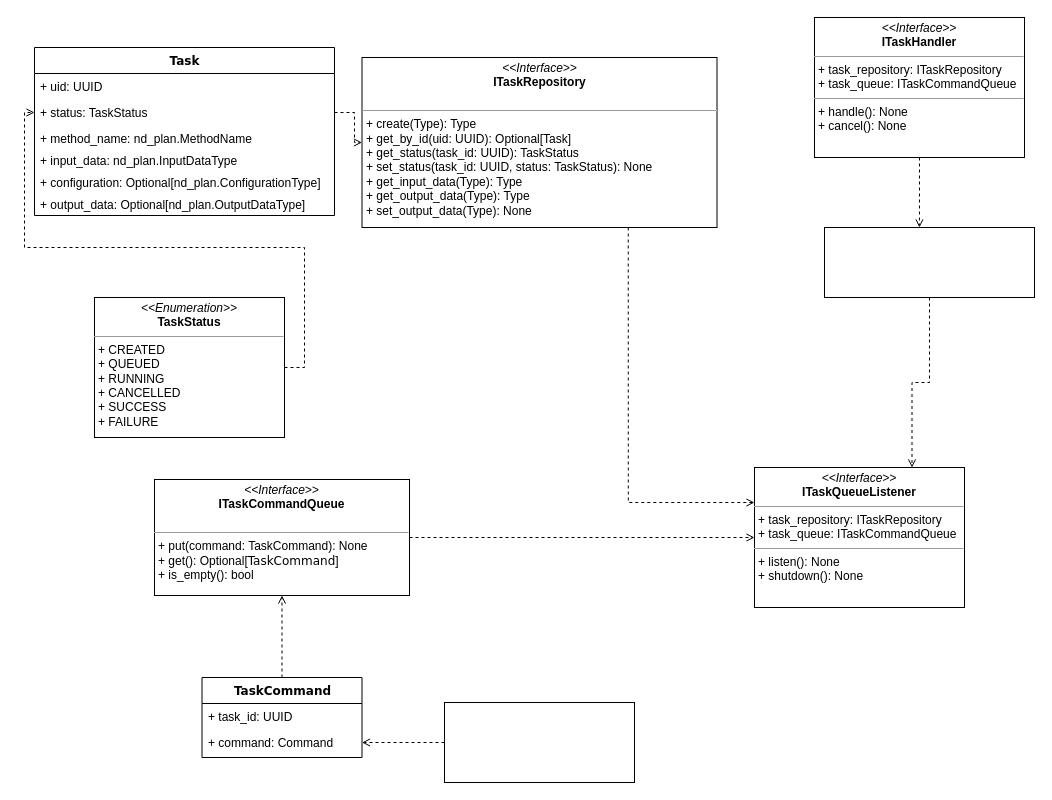
Image size: 1052x800. Some labels were removed from this diagram. Here are the shapes that lost their labels. From the top down, the centre of each, then its label:
At point 929,262: "<<Interface>> ITaskHandlerFactory + build(): ITaskHandler".
At point 539,742: "<<Enumeration>> Command + RUN + CANCEL".
